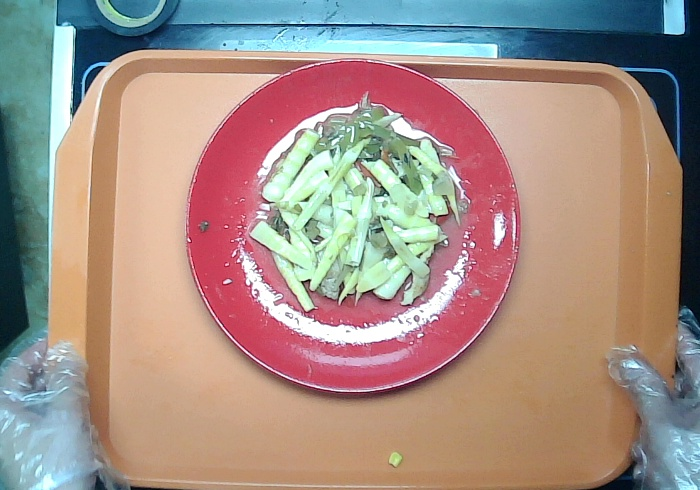HZYJPL-Hong_Se_Yuan_Pan: (184, 57, 521, 395)
